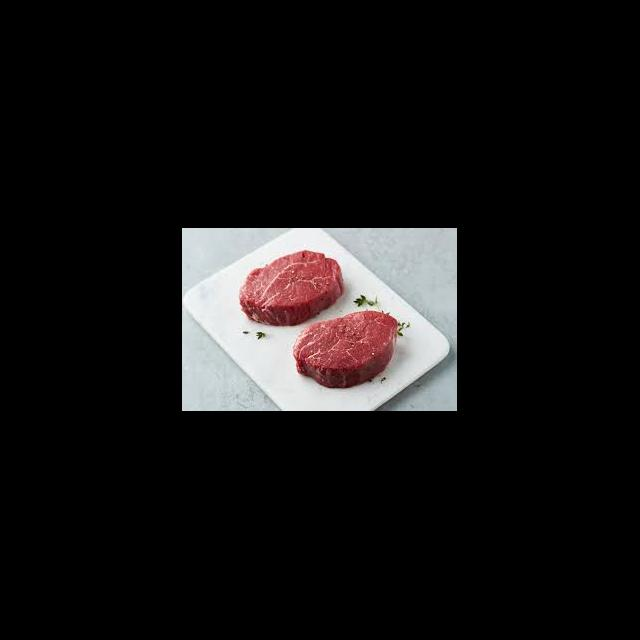beef: (292, 312, 398, 389), (239, 251, 346, 325)
